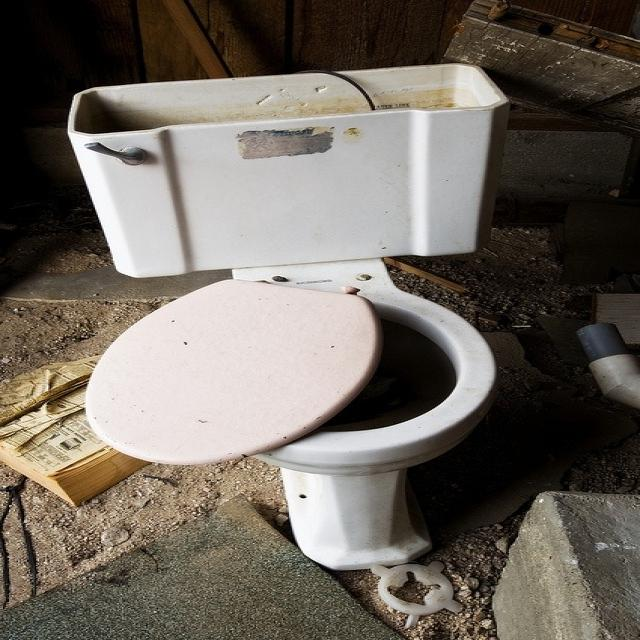Plastics: (48, 46, 492, 568)
